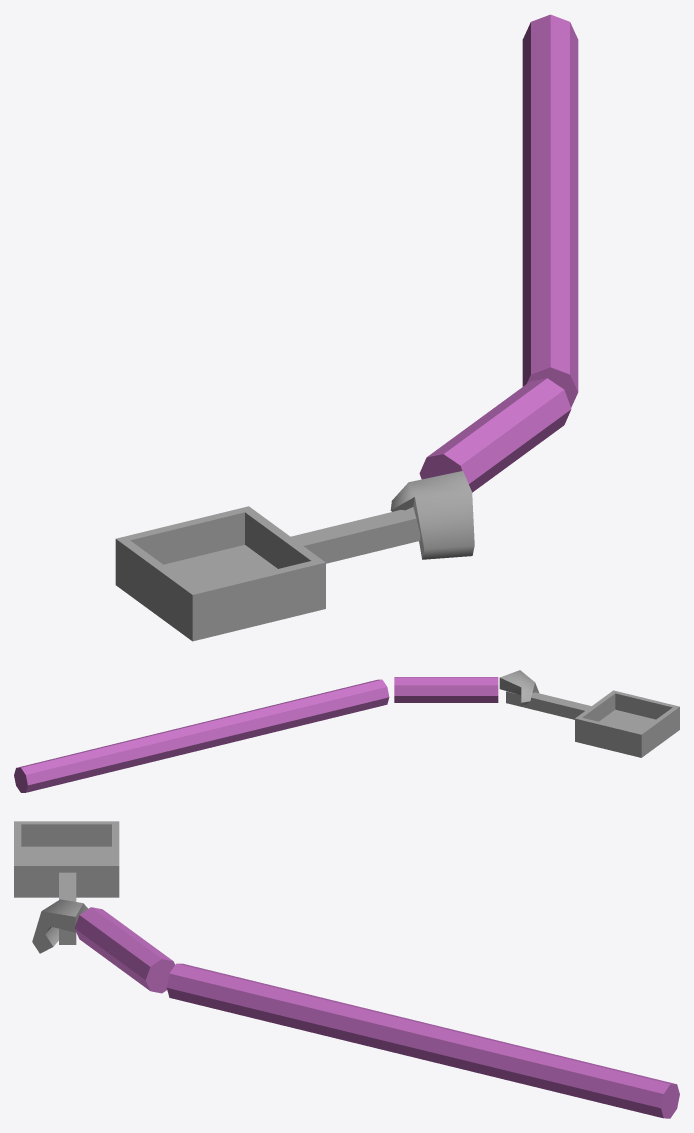
Rendered from leftArmPan.fbx.
3 views of the same model, one above another, from view 1: azimuth 30°, elevation 25°; view 2: azimuth 150°, elevation 25°; view 3: azimuth 270°, elevation 25° (orthographic). The views are drawn at different scales.
Parts seen in each view (by area): view 1: backArm_Left, pan_Left, foreArm_Left, hand_Left, panHandle_Left; view 2: backArm_Left, pan_Left, foreArm_Left, panHandle_Left, hand_Left; view 3: backArm_Left, pan_Left, foreArm_Left, hand_Left, panHandle_Left.
Part boxes in pixels (x1,y1,x2,y2): backArm_Left: [522, 14, 578, 407]; pan_Left: [115, 506, 325, 641]; foreArm_Left: [419, 378, 571, 492]; hand_Left: [390, 471, 474, 559]; panHandle_Left: [291, 507, 420, 563]; backArm_Left: [14, 679, 389, 792]; pan_Left: [575, 690, 679, 757]; foreArm_Left: [394, 677, 498, 702]; panHandle_Left: [506, 691, 591, 719]; hand_Left: [499, 670, 539, 705]; backArm_Left: [166, 963, 679, 1118]; pan_Left: [14, 821, 119, 897]; foreArm_Left: [74, 907, 174, 993]; hand_Left: [32, 899, 88, 953]; panHandle_Left: [59, 872, 76, 944].
Bounding box in the file's own units: 1.93 × 0.1561 × 1.9.
